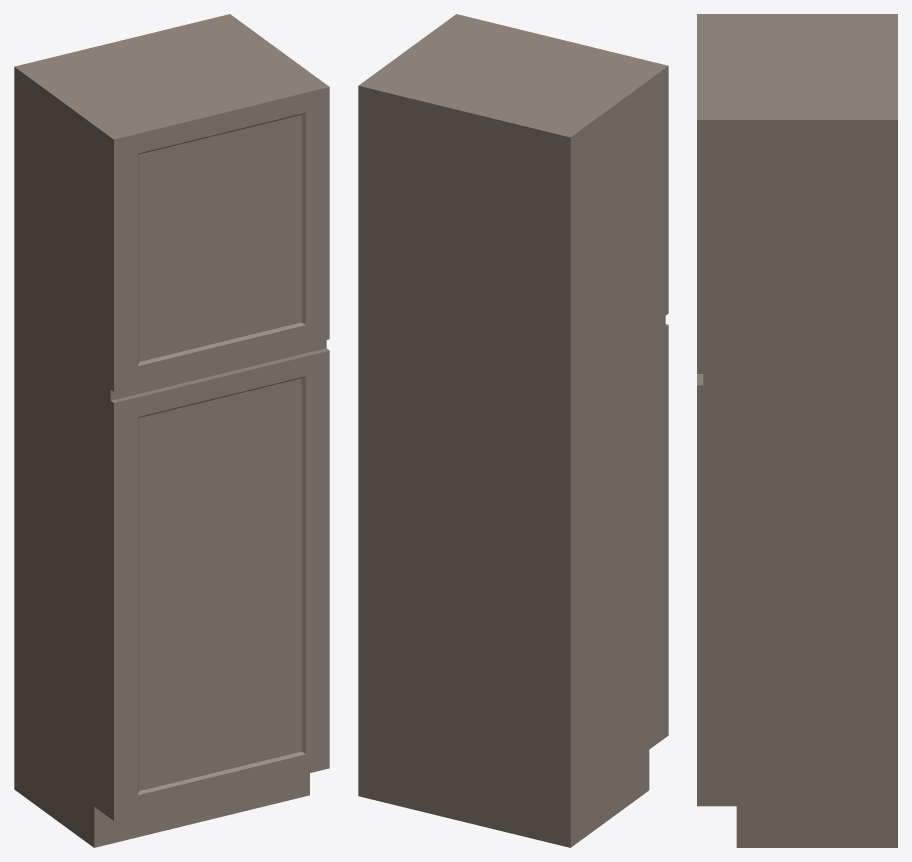
Rendered from Universal-Design-Utility-Cabinet-24-Deep_std_001_W30in_2D.glb.
3 renders of one model, left to right at view 1: azimuth 30°, elevation 25°; view 2: azimuth 150°, elevation 25°; view 3: azimuth 270°, elevation 25°, orthographic. The views are drawn at different scales.
Parts seen in each view (by area): view 1: Universal-Design-Utility-Cabinet-24-Deep.std.001_W30in_2D; view 2: Universal-Design-Utility-Cabinet-24-Deep.std.001_W30in_2D; view 3: Universal-Design-Utility-Cabinet-24-Deep.std.001_W30in_2D.
Boxes of the visible parts, x1,y1,x2,y2 form: Universal-Design-Utility-Cabinet-24-Deep.std.001_W30in_2D: (14, 14, 329, 847); Universal-Design-Utility-Cabinet-24-Deep.std.001_W30in_2D: (358, 14, 668, 847); Universal-Design-Utility-Cabinet-24-Deep.std.001_W30in_2D: (697, 14, 897, 847).
Bounding box in the file's own units: 0.762 × 2.44 × 0.6096.
